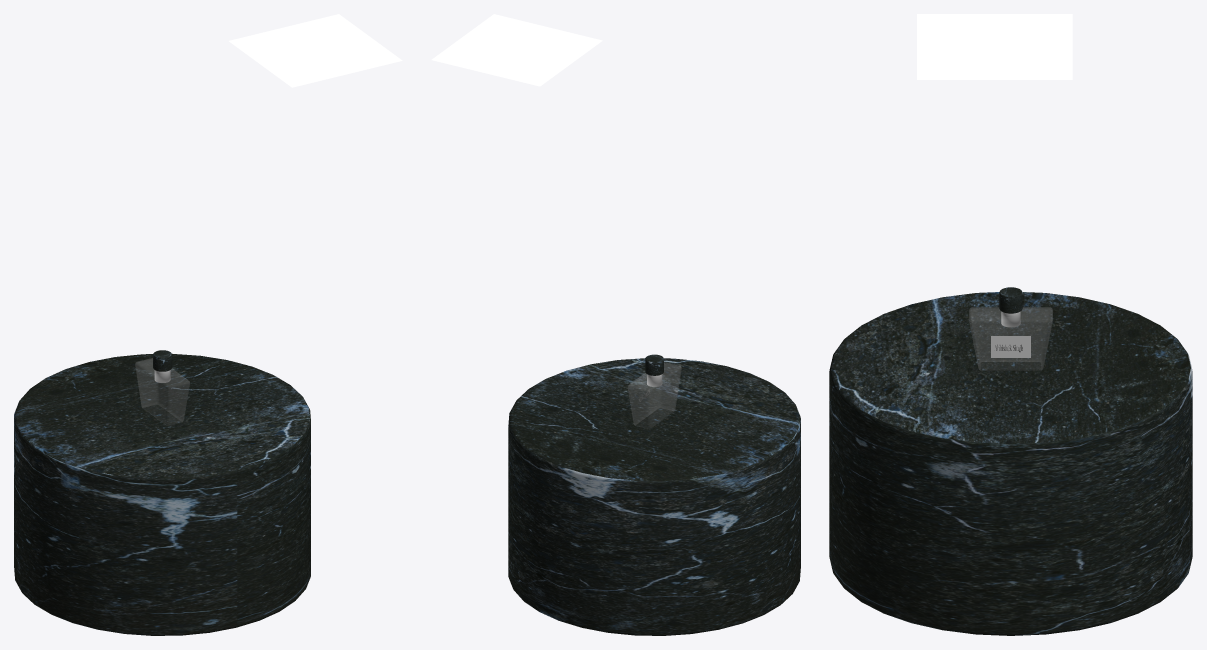
File: perfume.glb
3 views of the same model, side by side, from view 1: azimuth 30°, elevation 25°; view 2: azimuth 150°, elevation 25°; view 3: azimuth 270°, elevation 25° (orthographic). The views are drawn at different scales.
Parts seen in each view (by area): view 1: Cube.004, Plane.001, Cube.003; view 2: Cube.004, Plane.001, Cube.003; view 3: Cube.004, Plane.001, Cube.003, Plane, Cube.002.
Boxes of the visible parts, x1,y1,x2,y2 form: Cube.004: (14, 353, 310, 635); Plane.001: (229, 14, 402, 87); Cube.003: (135, 358, 189, 425); Cube.004: (508, 358, 800, 635); Plane.001: (431, 14, 602, 86); Cube.003: (628, 362, 681, 428); Cube.004: (829, 292, 1192, 635); Plane.001: (917, 14, 1072, 79); Cube.003: (969, 307, 1052, 370); Plane: (991, 336, 1030, 357); Cube.002: (999, 287, 1022, 313).
Bounding box in the file's own units: 10.98 × 15.63 × 8.56.
6 materials, 1 textured.
